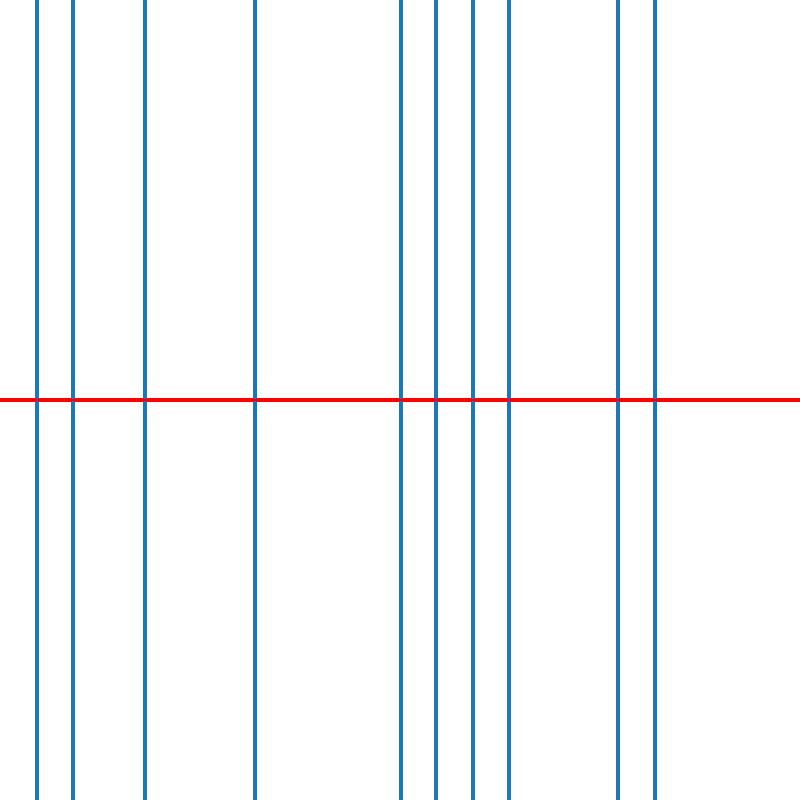root: (141, 396, 149, 404), (250, 396, 258, 404), (650, 396, 658, 404), (432, 396, 440, 404), (32, 396, 40, 404), (396, 396, 403, 404), (469, 396, 476, 404), (505, 396, 512, 404), (614, 396, 621, 404), (69, 396, 76, 404)
